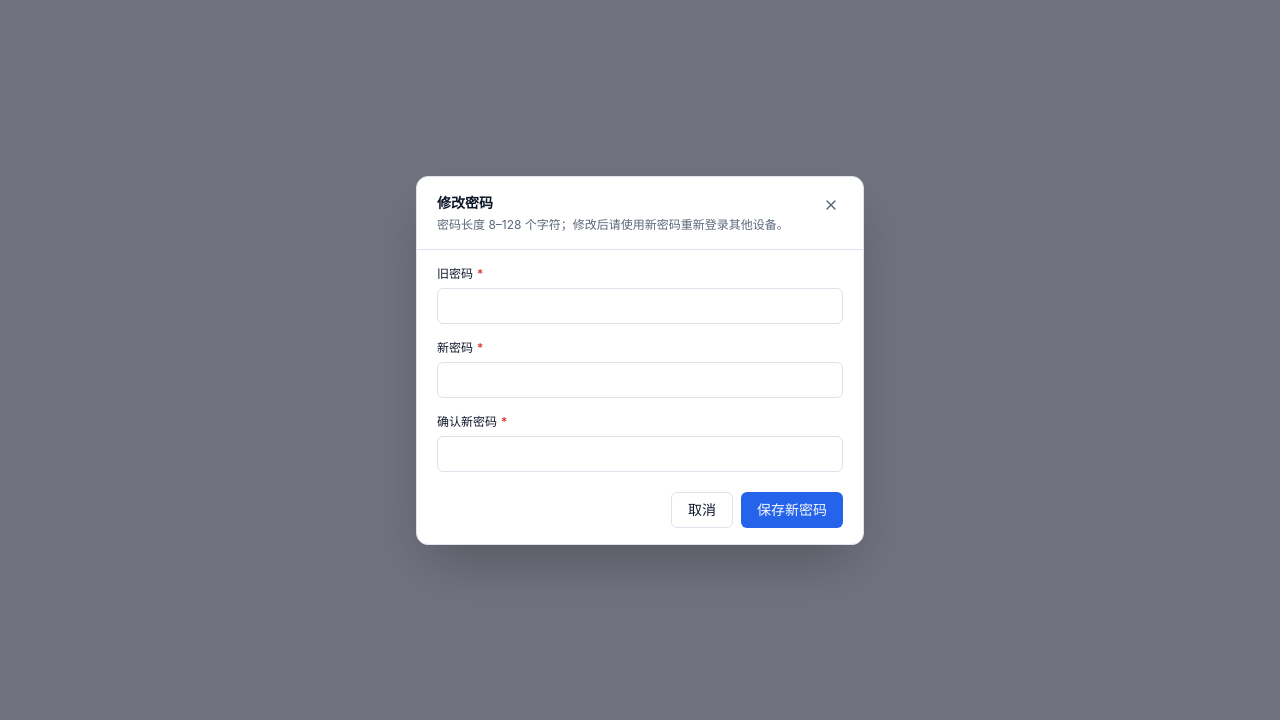
Test: ChangePasswordDialog › submits the old and new password and confirms success
The width and height of the screenshot is (1280, 720).
Type "admin123" into the password field labelled "旧密码" at [640, 306], box [437,288,843,324]
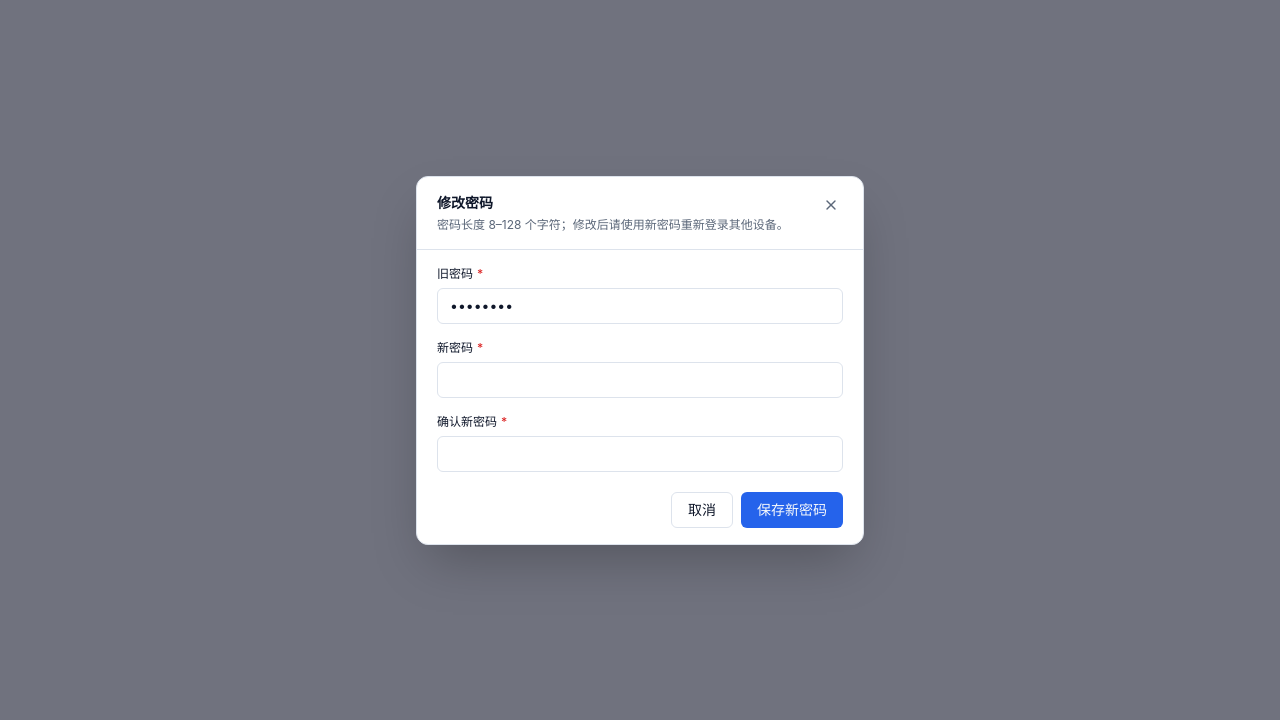
Type "newpass123" into the password field labelled "新密码" at [640, 380], box [437,362,843,398]
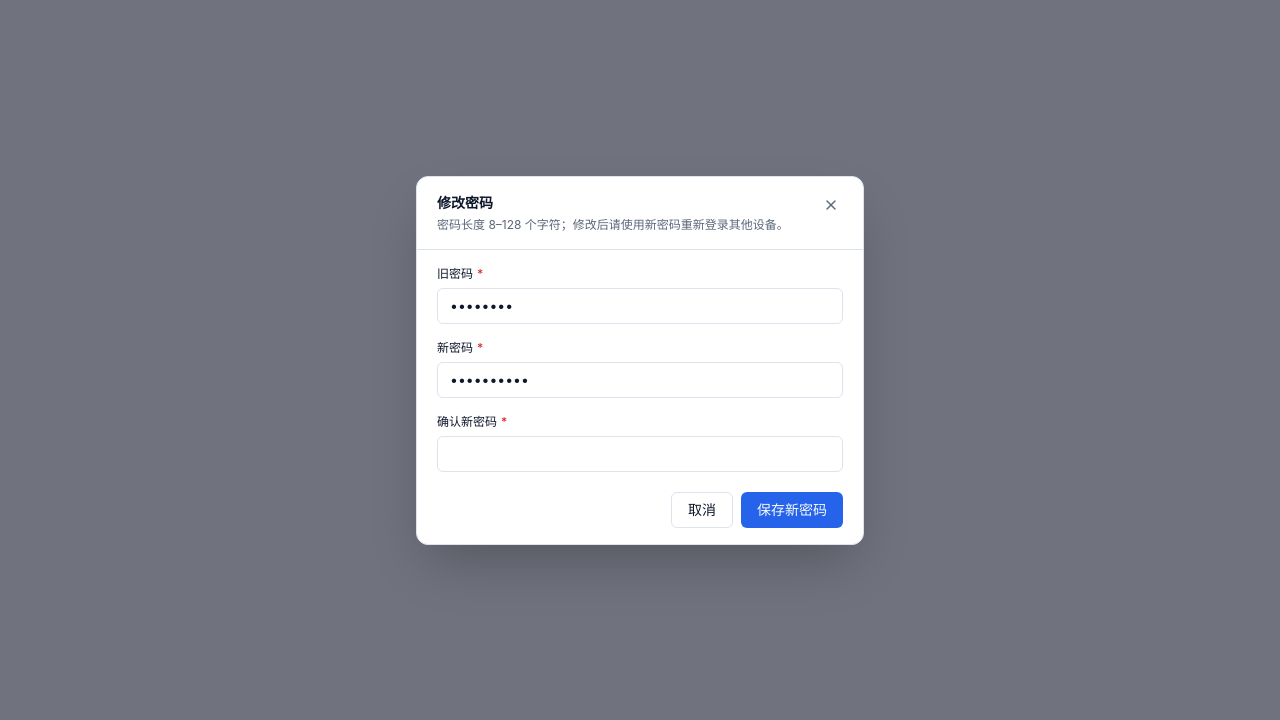
Type "newpass123" into the password field labelled "确认新密码" at [640, 454], box [437,436,843,472]
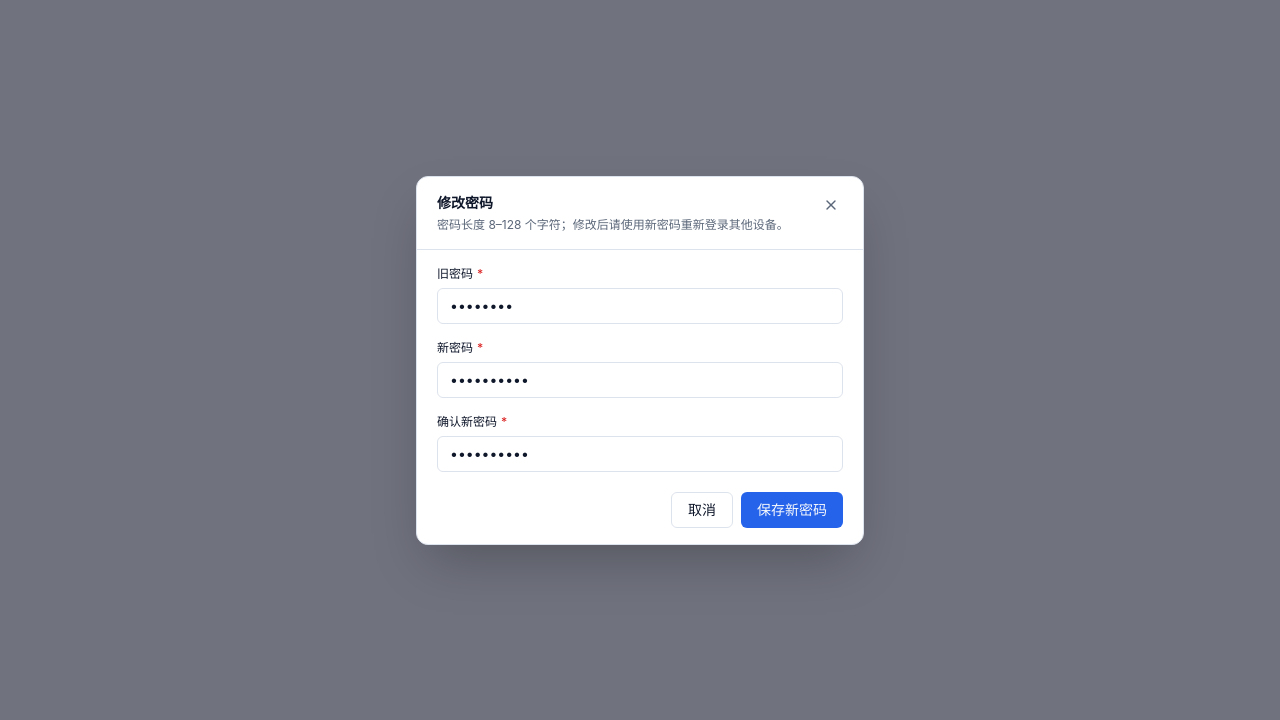
Click the button "保存新密码" at [792, 510], box [741,492,843,528]
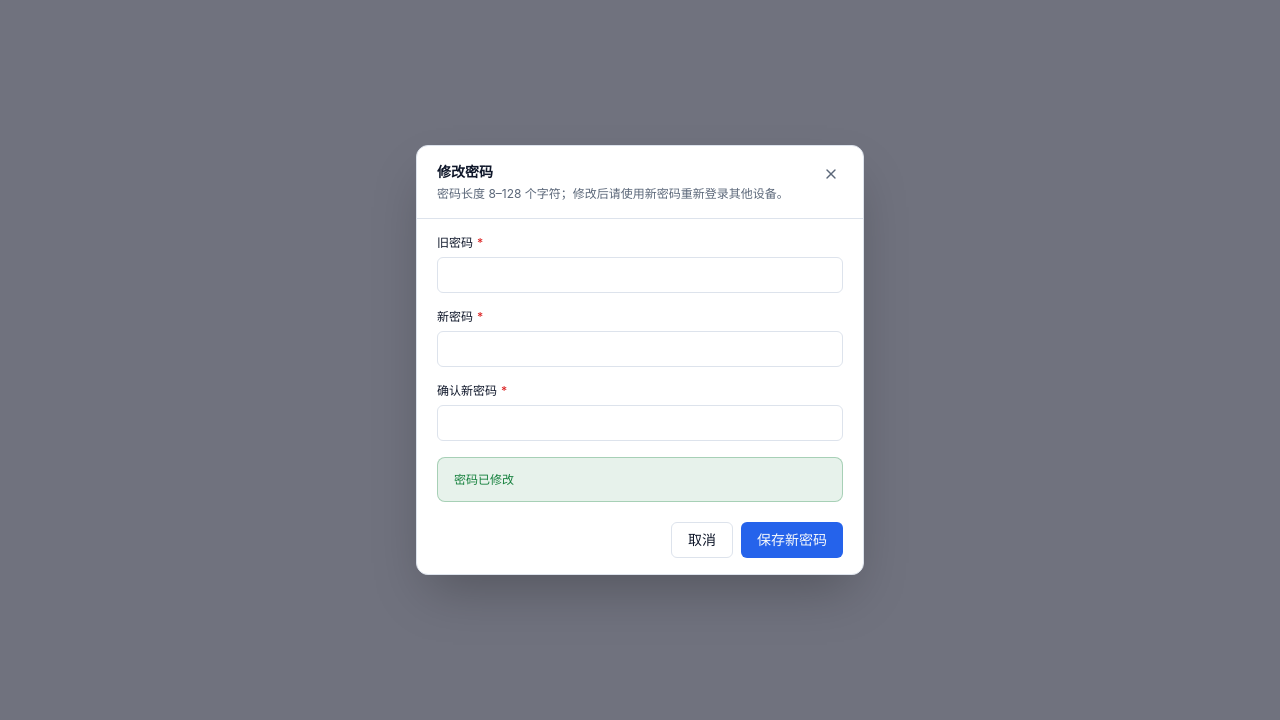
Check: the message reads "密码已修改", box [454,472,514,487]
